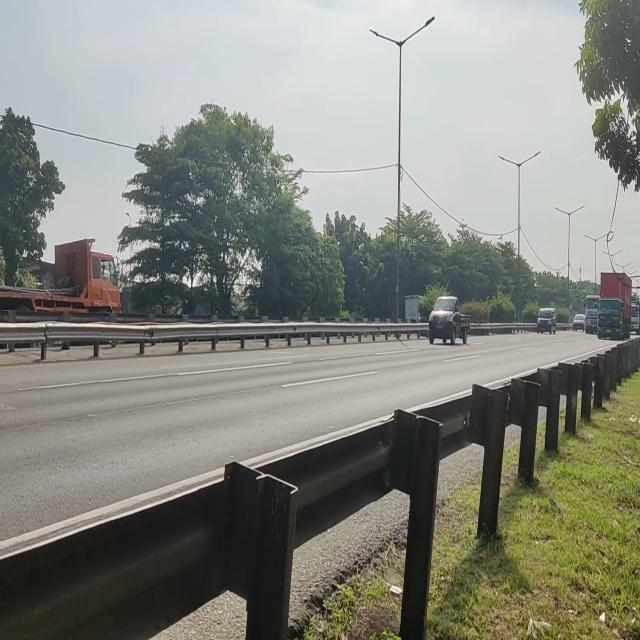Golongan I: (426, 287, 472, 349)
